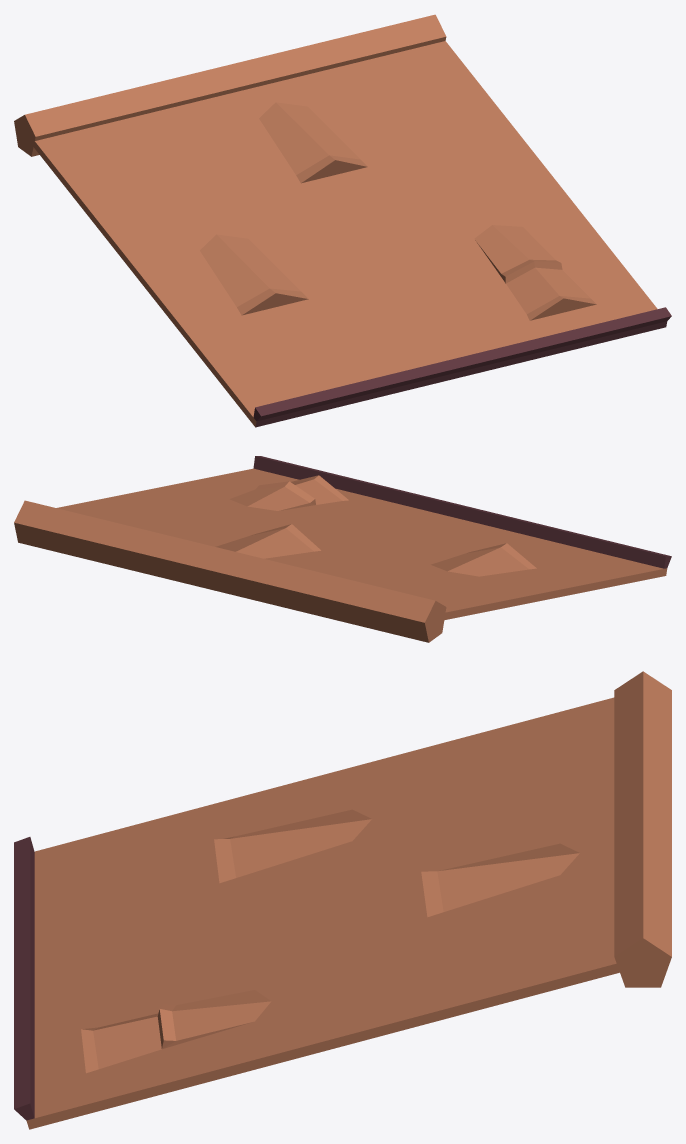
File: empire-roof-inner-vertical-3x3m-empire.glb
The picture shows the model from 3 angles, top to bottom: view 1: azimuth 30°, elevation 25°; view 2: azimuth 150°, elevation 25°; view 3: azimuth 270°, elevation 25°; orthographic projection. The views are drawn at different scales.
Parts seen in each view (by area): view 1: SM_Roof_Inner_Vertical_3x3m_Empire; view 2: SM_Roof_Inner_Vertical_3x3m_Empire; view 3: SM_Roof_Inner_Vertical_3x3m_Empire.
Part boxes in pixels (x1=…): SM_Roof_Inner_Vertical_3x3m_Empire: x1=14, y1=14, x2=671, y2=427; SM_Roof_Inner_Vertical_3x3m_Empire: x1=14, y1=456, x2=671, y2=642; SM_Roof_Inner_Vertical_3x3m_Empire: x1=14, y1=671, x2=671, y2=1129.
Size of the model in its own units: 3 by 1 by 3.13.
